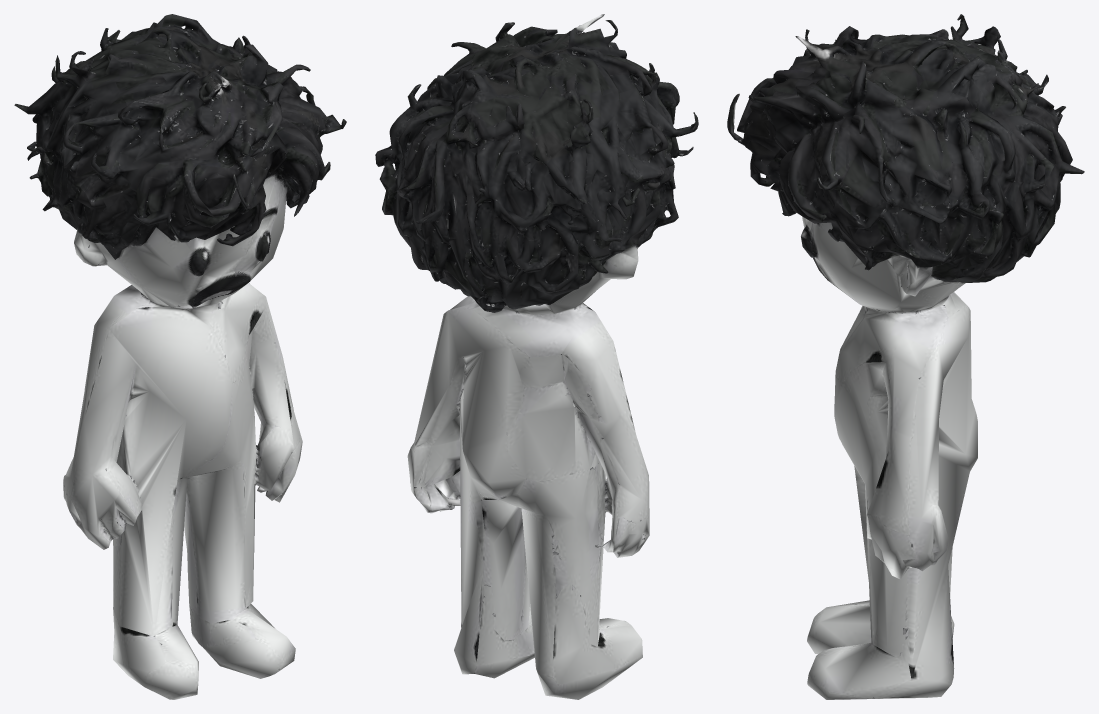
Rendered from boyChar_shocked.glb.
3 renders of one model, left to right at view 1: azimuth 30°, elevation 25°; view 2: azimuth 150°, elevation 25°; view 3: azimuth 270°, elevation 25°, orthographic. The views are drawn at different scales.
Visible parts, largest first — view 1: Char_Boy_Shocked; view 2: Char_Boy_Shocked; view 3: Char_Boy_Shocked.
Part boxes in pixels (bbox=[...]): Char_Boy_Shocked: bbox=[14, 14, 346, 699]; Char_Boy_Shocked: bbox=[375, 14, 698, 699]; Char_Boy_Shocked: bbox=[727, 14, 1084, 699].
Bounding box in the file's own units: 0.522 × 1.2 × 0.6158.
1 material, 1 textured.
